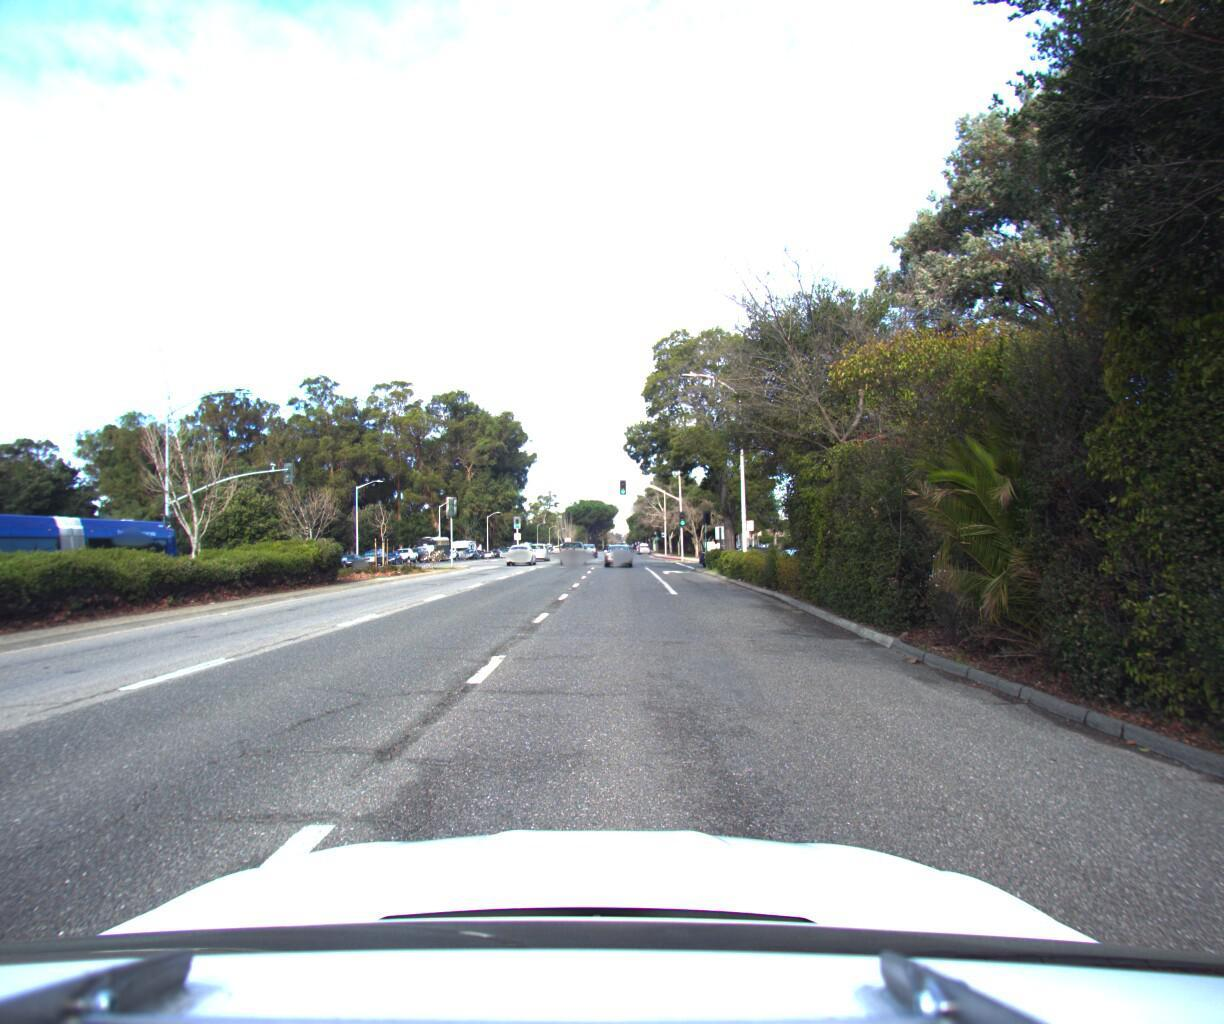bus: (0, 479, 188, 614)
car: (502, 536, 538, 559), (600, 535, 632, 559), (555, 532, 586, 556), (528, 534, 554, 554)
